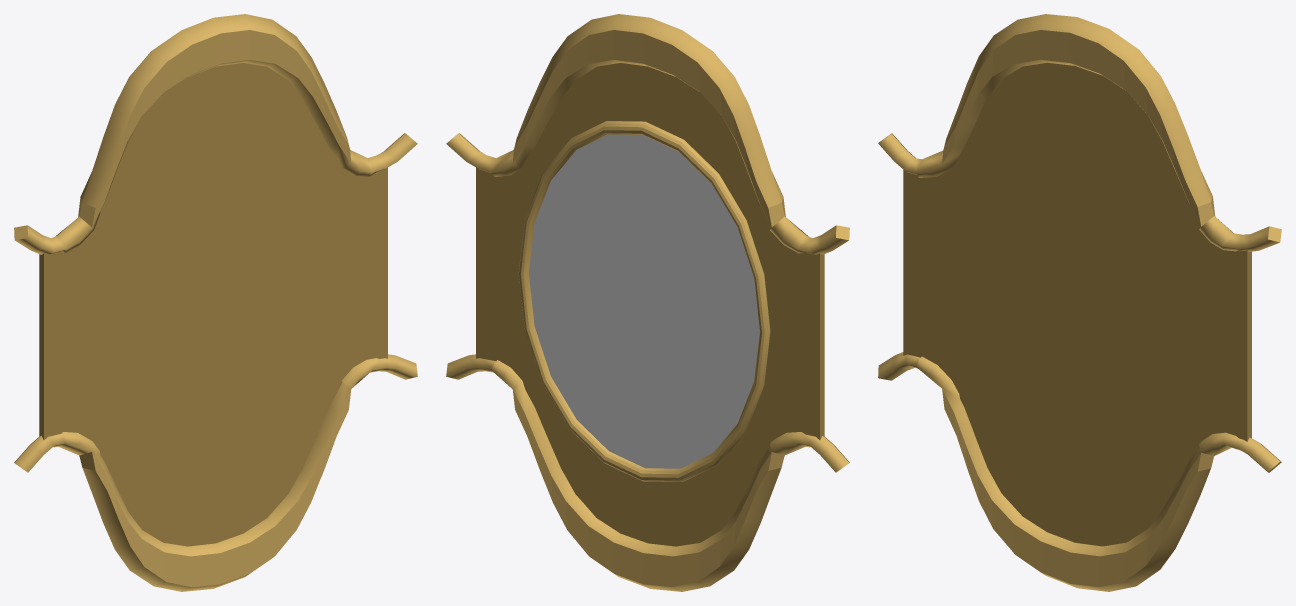
File: BathroomMirrorUV.fbx
3 renders of one model, left to right at view 1: azimuth 30°, elevation 25°; view 2: azimuth 150°, elevation 25°; view 3: azimuth 330°, elevation 25°, orthographic.
Parts seen in each view (by area): view 1: polySurface7; view 2: polySurface7; view 3: polySurface7.
Part boxes in pixels (x1,y1,x2,y2): polySurface7: [14, 14, 417, 591]; polySurface7: [446, 14, 849, 591]; polySurface7: [878, 14, 1281, 591].
Bounding box in the file's own units: 8.55 × 11.61 × 0.5611.
